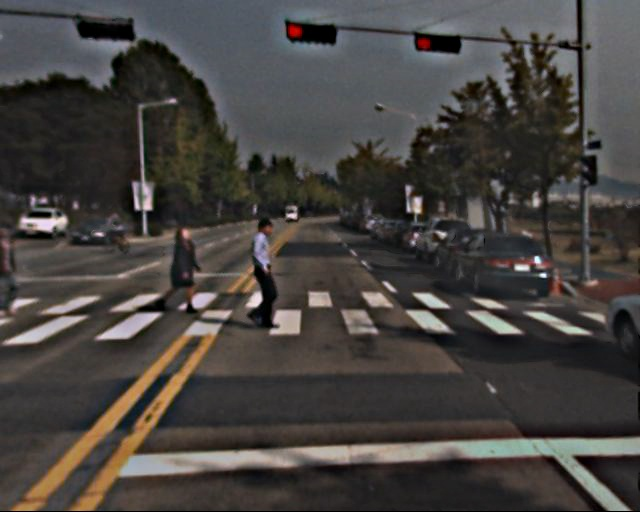person: (239, 217, 290, 330), (163, 226, 206, 312)
